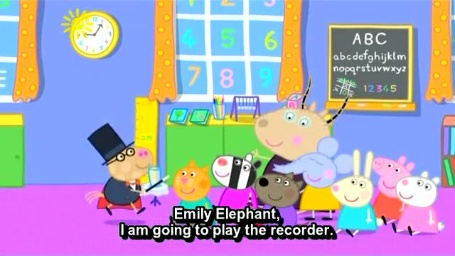Peppa: (370, 153, 416, 226)
